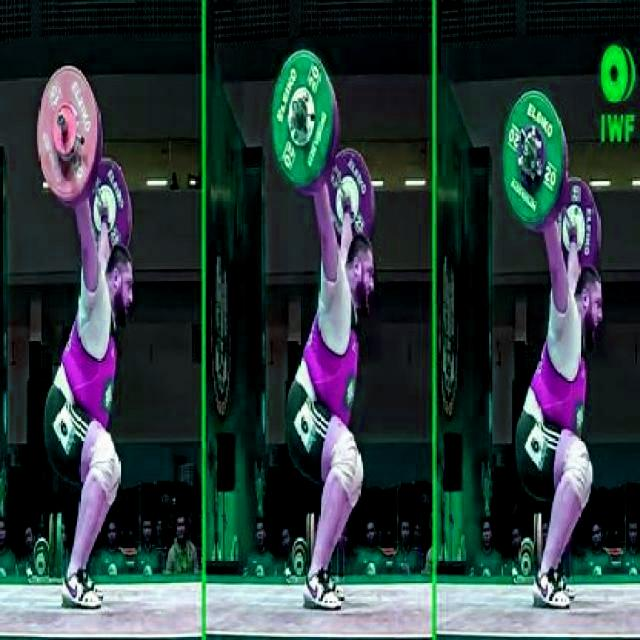barbell: (267, 35, 365, 191), (30, 55, 110, 217), (500, 80, 575, 237)
